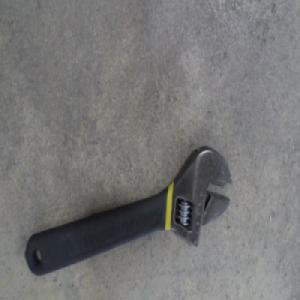AdjustableWrench: (23, 145, 235, 277)
